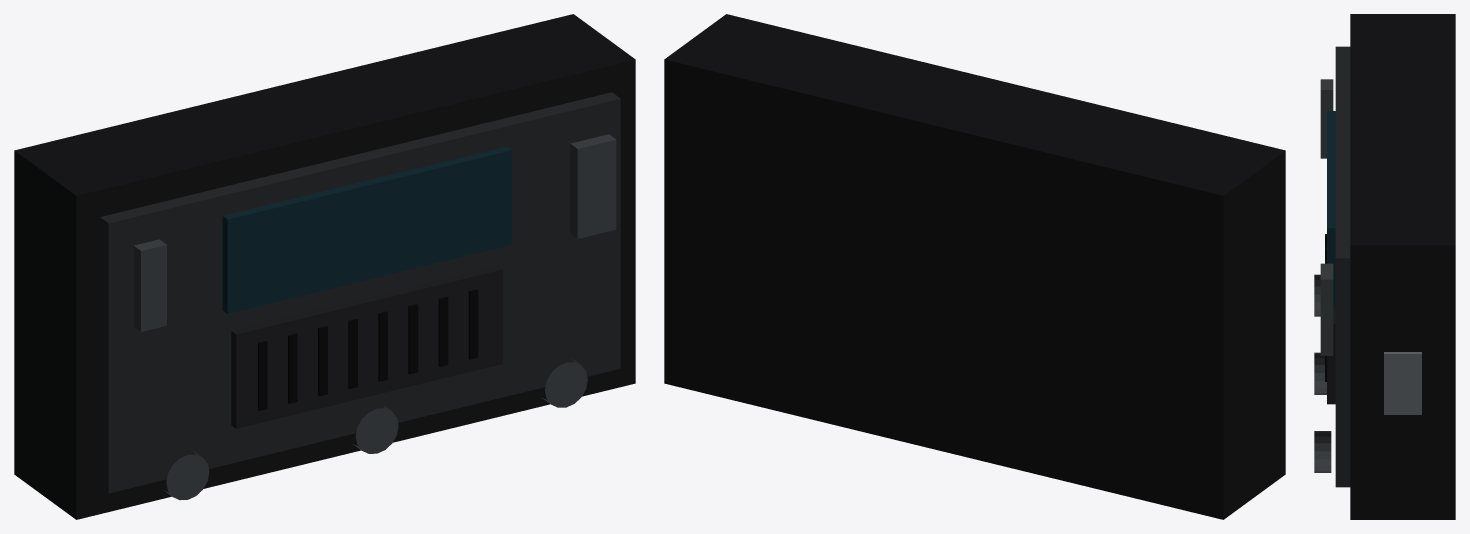
File: Recorder_LOD0.obj
3 renders of one model, left to right at view 1: azimuth 30°, elevation 25°; view 2: azimuth 150°, elevation 25°; view 3: azimuth 270°, elevation 25°, orthographic. The views are drawn at different scales.
Bounding box in the file's own units: 0.131 × 0.0735 × 0.0335.
